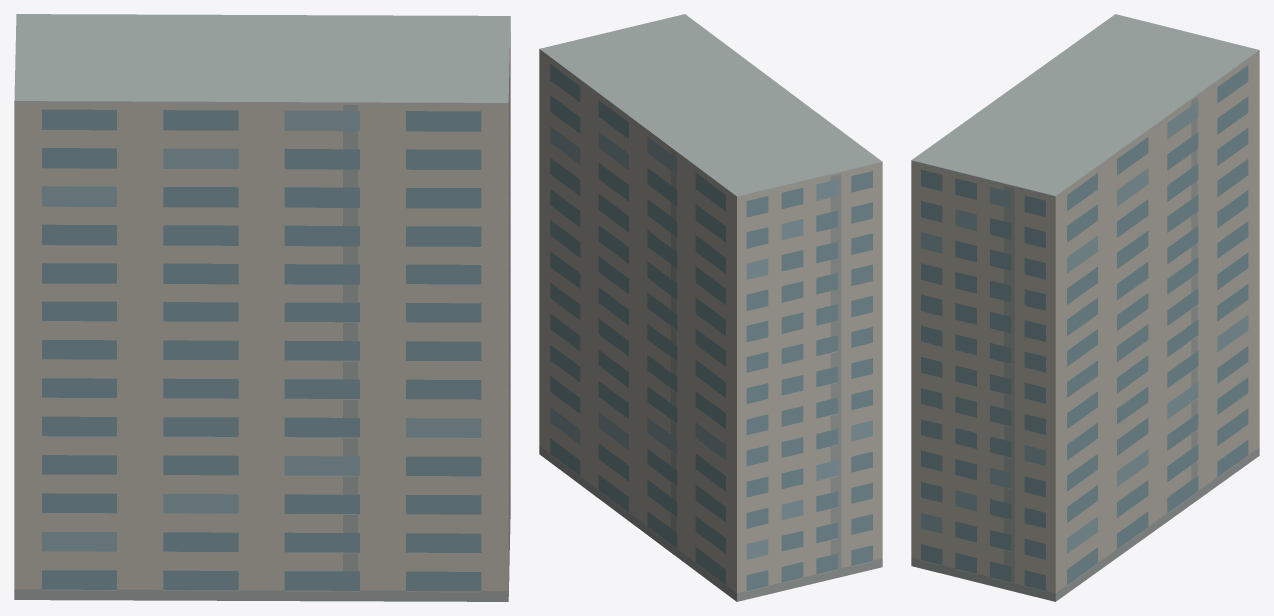
Rendered from residential-5e5e09a7-a1d6-4078-9031-530ba7c0e08f.glb.
3 renders of one model, left to right at view 1: azimuth 30°, elevation 25°; view 2: azimuth 150°, elevation 25°; view 3: azimuth 270°, elevation 25°, orthographic. The views are drawn at different scales.
Parts seen in each view (by area): view 1: residential-5e5e09a7-a1d6-4078-9031-530ba7c0e08f.tmp; view 2: residential-5e5e09a7-a1d6-4078-9031-530ba7c0e08f.tmp; view 3: residential-5e5e09a7-a1d6-4078-9031-530ba7c0e08f.tmp.
Boxes of the visible parts, bbox=[...] form: residential-5e5e09a7-a1d6-4078-9031-530ba7c0e08f.tmp: bbox=[14, 14, 510, 601]; residential-5e5e09a7-a1d6-4078-9031-530ba7c0e08f.tmp: bbox=[539, 14, 882, 601]; residential-5e5e09a7-a1d6-4078-9031-530ba7c0e08f.tmp: bbox=[911, 14, 1259, 601].
Bounding box in the file's own units: 42.39 × 44 × 34.25.
